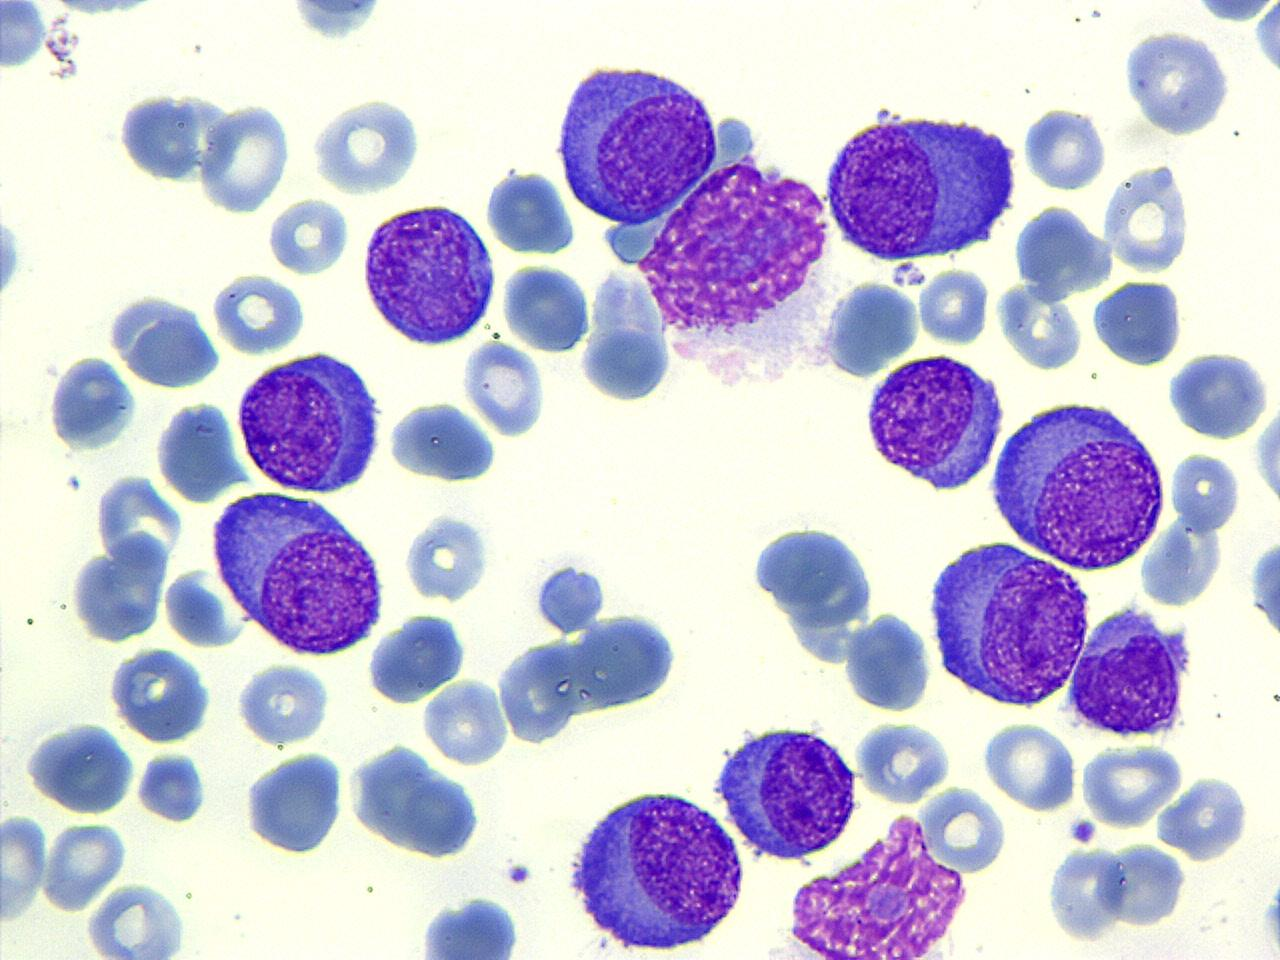Platelets: (400, 510, 496, 604), (266, 196, 350, 276), (134, 748, 210, 826), (530, 558, 605, 634), (288, 1, 382, 43), (0, 0, 50, 73), (1249, 532, 1280, 642), (1251, 0, 1280, 84), (0, 215, 26, 302), (1187, 1, 1277, 25), (1260, 893, 1280, 958), (1067, 816, 1099, 847), (503, 860, 534, 886), (66, 471, 83, 491)
RBC: (308, 93, 423, 199), (199, 101, 293, 216), (1079, 740, 1183, 830), (980, 717, 1078, 812), (853, 714, 955, 804), (1042, 840, 1128, 944), (500, 260, 594, 354), (210, 269, 310, 356), (40, 821, 131, 915), (462, 340, 548, 439), (420, 676, 512, 768), (404, 512, 495, 604), (234, 661, 331, 747), (1021, 101, 1111, 193), (919, 784, 1009, 876), (1100, 842, 1188, 928), (265, 196, 350, 277), (1167, 447, 1239, 534), (916, 264, 990, 346), (1, 810, 49, 927)
WBC: (0, 0, 548, 331), (630, 126, 844, 396), (818, 103, 1020, 268), (984, 396, 1170, 574), (564, 781, 750, 957), (207, 488, 390, 660), (924, 536, 1095, 712), (781, 804, 973, 960), (550, 57, 720, 228), (744, 514, 895, 696), (232, 346, 386, 497), (710, 716, 863, 864), (861, 348, 1009, 494), (357, 198, 498, 348), (1064, 601, 1196, 742), (344, 736, 486, 862), (1119, 24, 1235, 141), (576, 268, 674, 403), (308, 92, 426, 198), (65, 534, 175, 646), (241, 746, 349, 860), (106, 288, 224, 390), (22, 718, 139, 820), (106, 642, 218, 746), (1100, 157, 1194, 276), (364, 608, 473, 708), (1165, 345, 1275, 444), (842, 604, 936, 717), (1010, 199, 1114, 301), (152, 397, 250, 505), (43, 351, 141, 455), (385, 397, 500, 485), (500, 258, 597, 355), (1081, 738, 1183, 830), (1135, 512, 1227, 612), (852, 714, 952, 806), (82, 878, 191, 960), (1090, 277, 1186, 370), (1154, 773, 1252, 864), (1044, 837, 1128, 943), (461, 338, 548, 440), (115, 88, 204, 187), (208, 270, 310, 356), (482, 168, 578, 259), (918, 783, 1010, 875), (1020, 102, 1108, 196), (1101, 837, 1187, 933), (406, 513, 495, 605), (414, 894, 527, 960), (266, 192, 350, 279), (1170, 446, 1242, 532), (134, 747, 208, 827), (286, 2, 394, 43), (1249, 528, 1279, 648), (1252, 392, 1280, 516), (0, 1, 50, 70), (1253, 0, 1280, 88)
